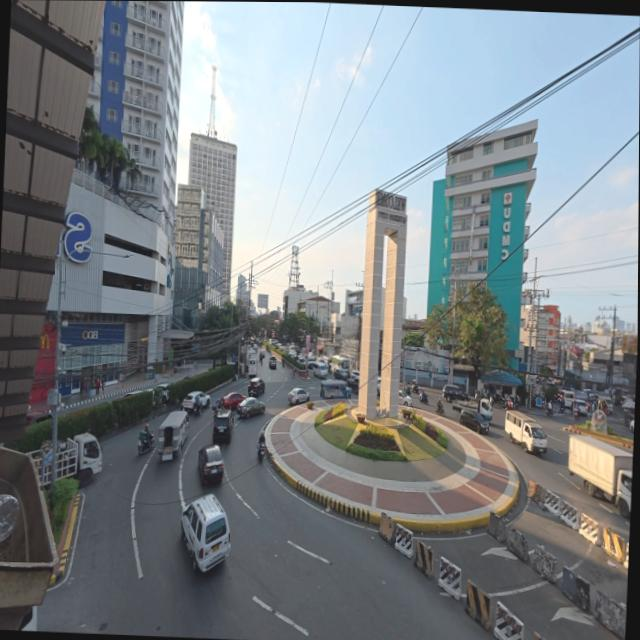car: (194, 446, 226, 489), (288, 386, 312, 406)
trucks: (566, 432, 633, 520)
vans: (174, 489, 231, 575)
